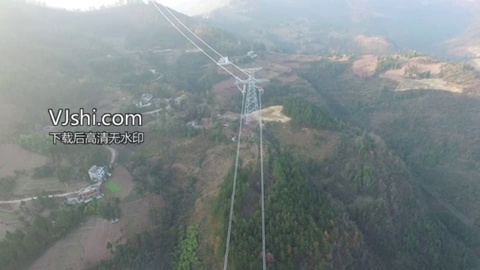tower_body: (234, 63, 268, 133)
tower_foot: (241, 115, 260, 130)
tower_head: (238, 66, 263, 76)
